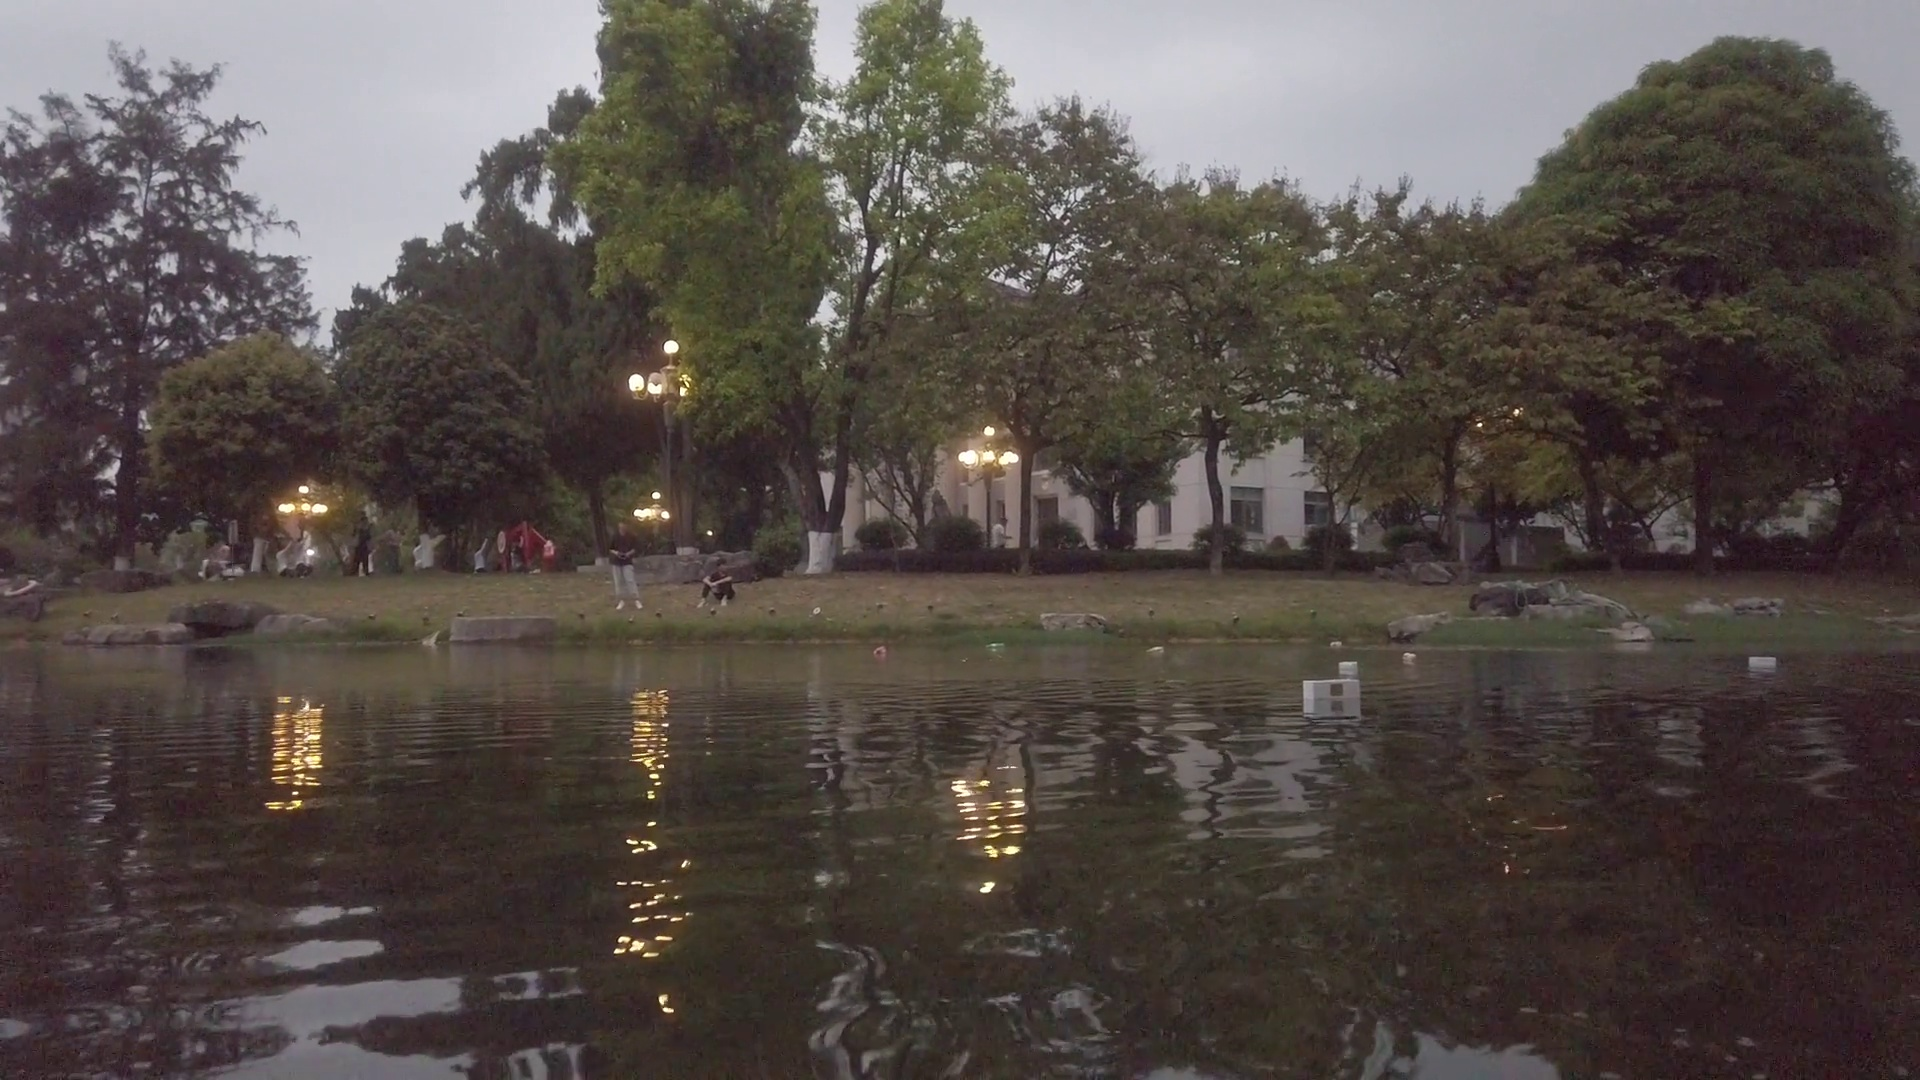bottle: (985, 641, 1005, 650), (1146, 645, 1164, 654), (1402, 653, 1418, 662), (873, 645, 886, 655), (1328, 640, 1342, 647)
carton: (1302, 678, 1364, 699), (1745, 653, 1778, 670), (1338, 658, 1360, 674)
